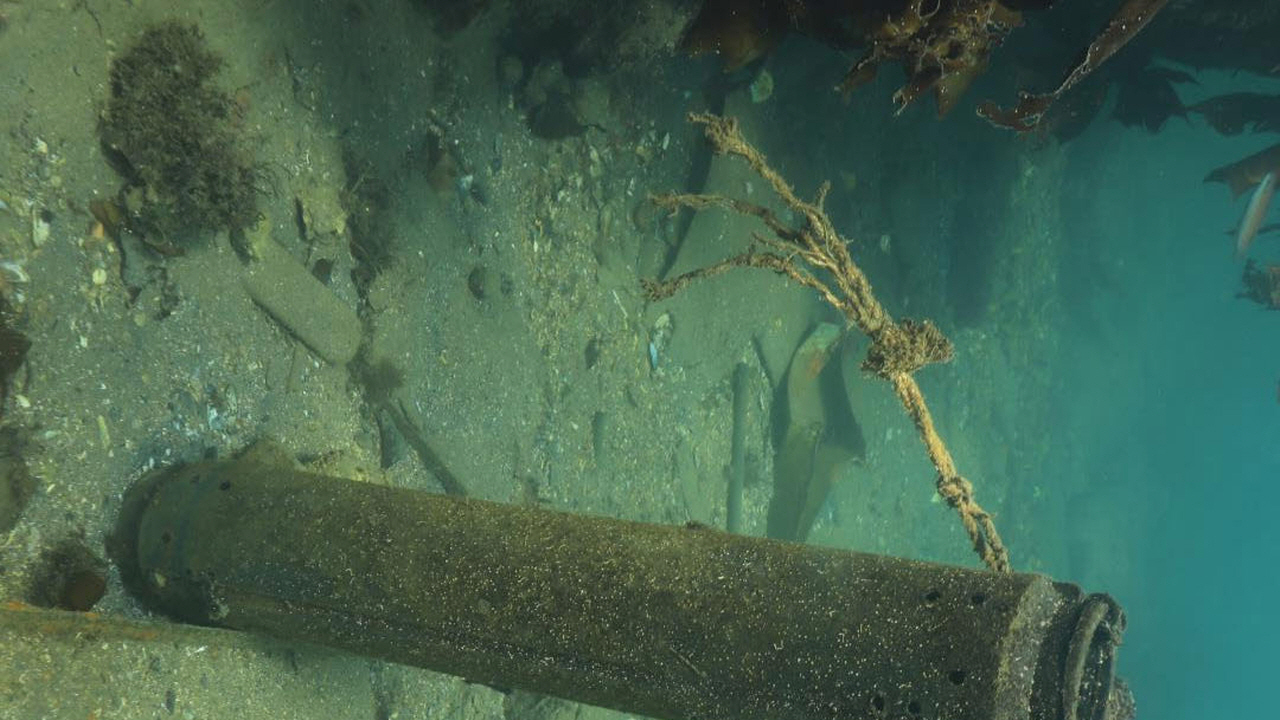bundle of ropes: (685, 149, 1010, 573)
eel fish trap: (106, 457, 1122, 720)
